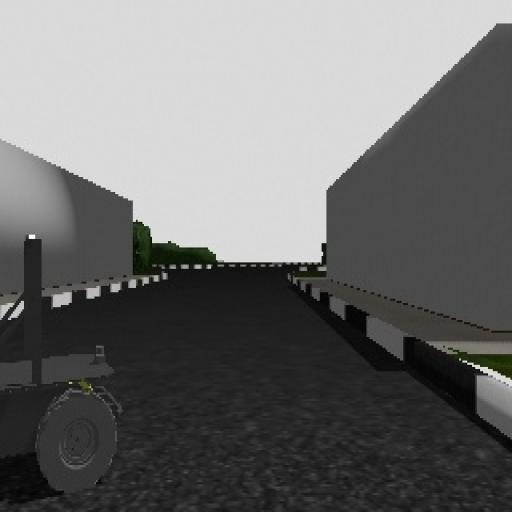huskya200: (2, 211, 130, 502)
